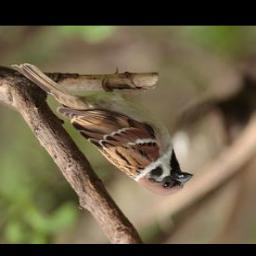Sparrow: (11, 60, 195, 200)
